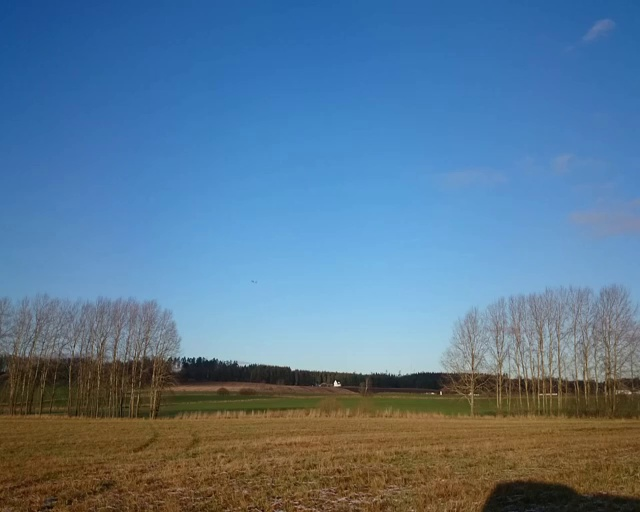DRONE: (252, 280, 260, 286)
